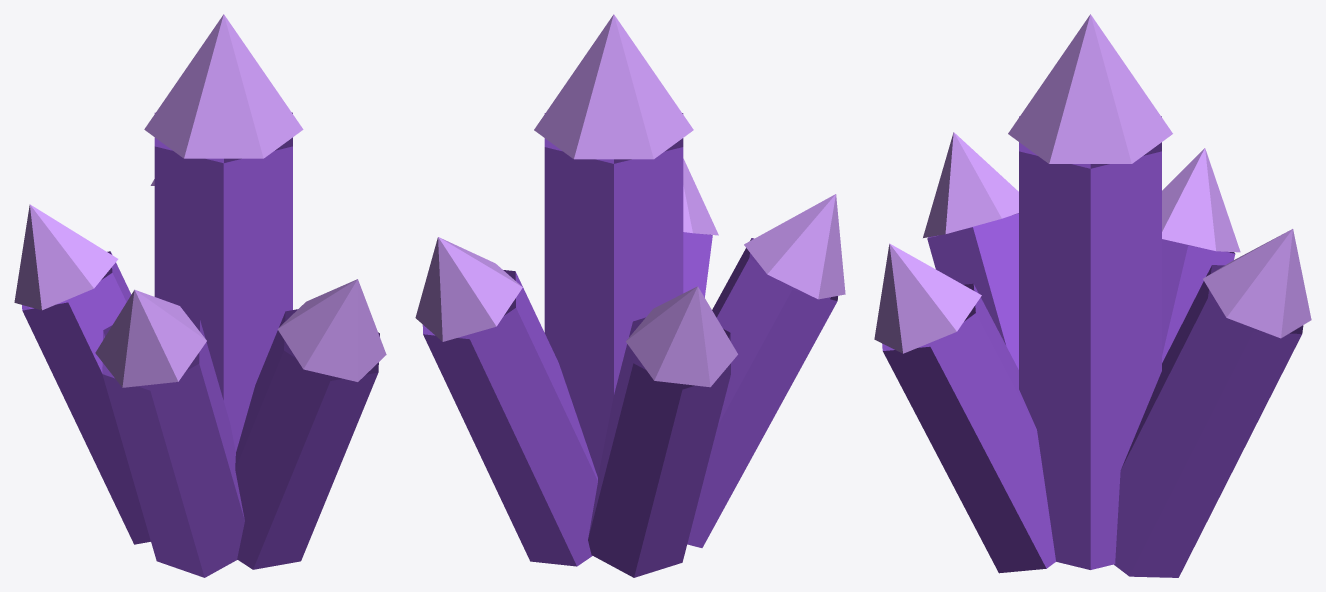
The model's file is crystals.obj.
The picture shows the model from 3 angles, left to right: view 1: azimuth 30°, elevation 25°; view 2: azimuth 150°, elevation 25°; view 3: azimuth 270°, elevation 25°; orthographic projection. The views are drawn at different scales.
Size of the model in its own units: 0.5767 by 1.02 by 0.7405.
